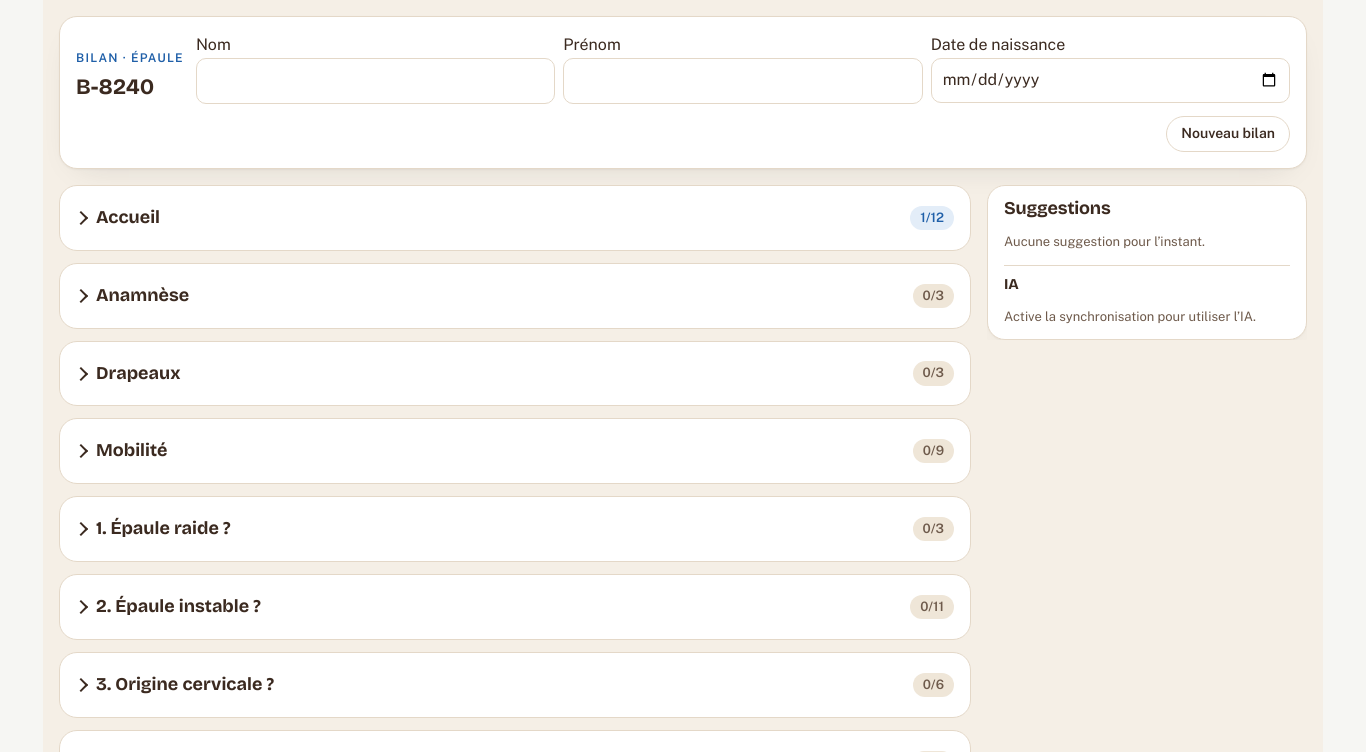
Test: section Accueil (physio) › réponse corrigée : « patient : 7 »
Expected: the text with class "bilan-sec-title" reads "Accueil", 96,206 -> 160,228
Click the heading "Accueil 1/12". click: (128, 217)
box: 96,206 -> 954,230
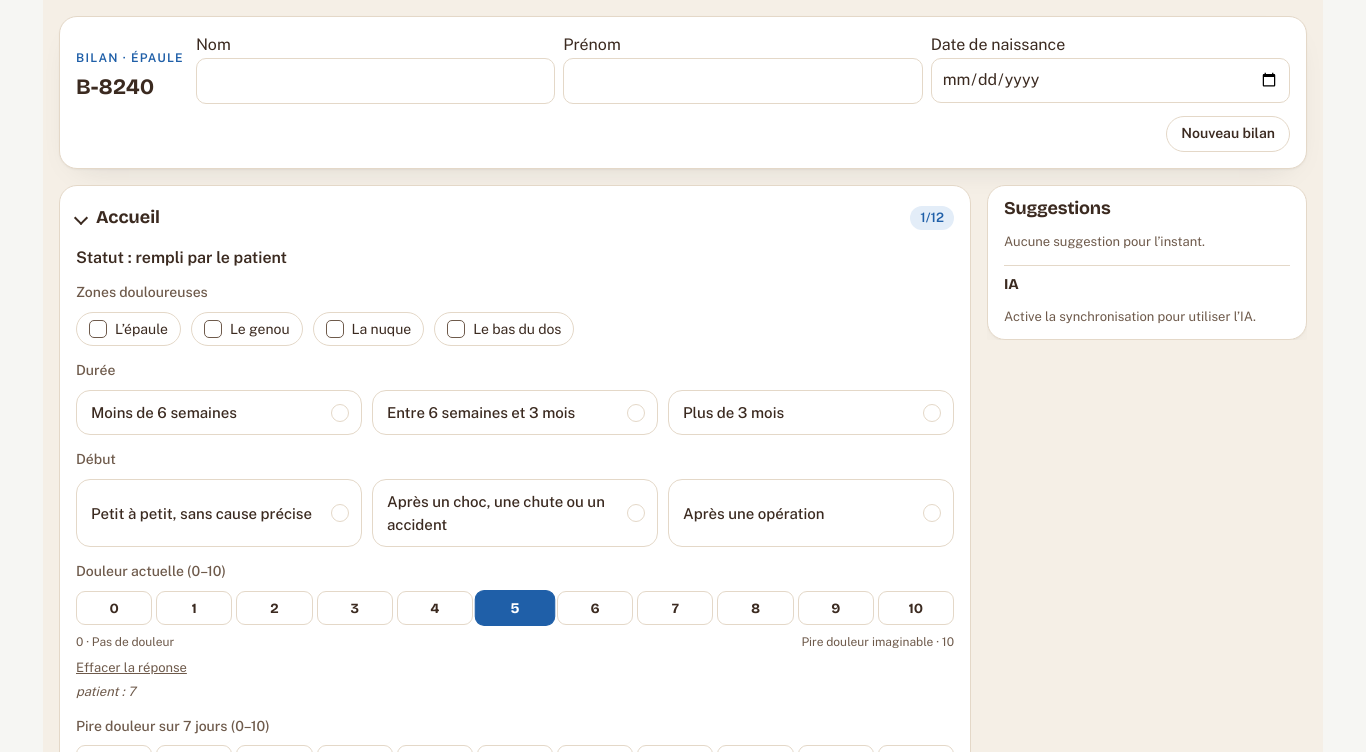
Expected: the text "patient : 7" is shown, 76,684 -> 136,699
